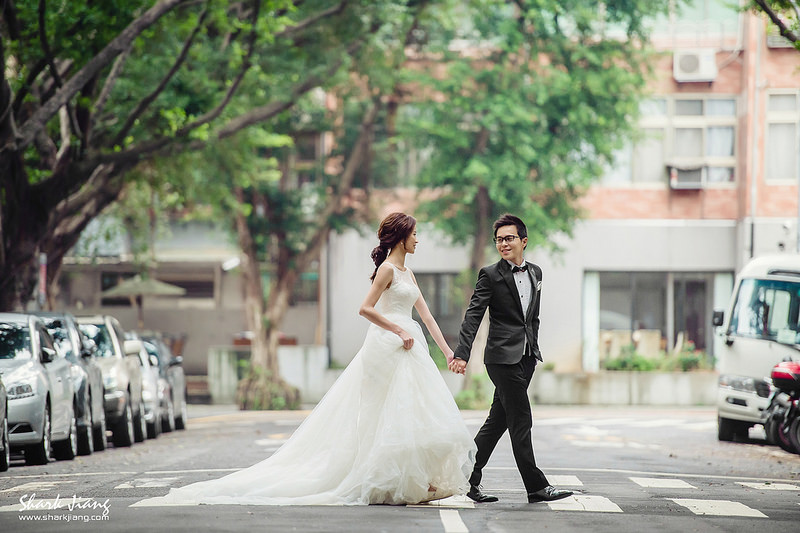people: (466, 214, 566, 504), (362, 214, 446, 504)
